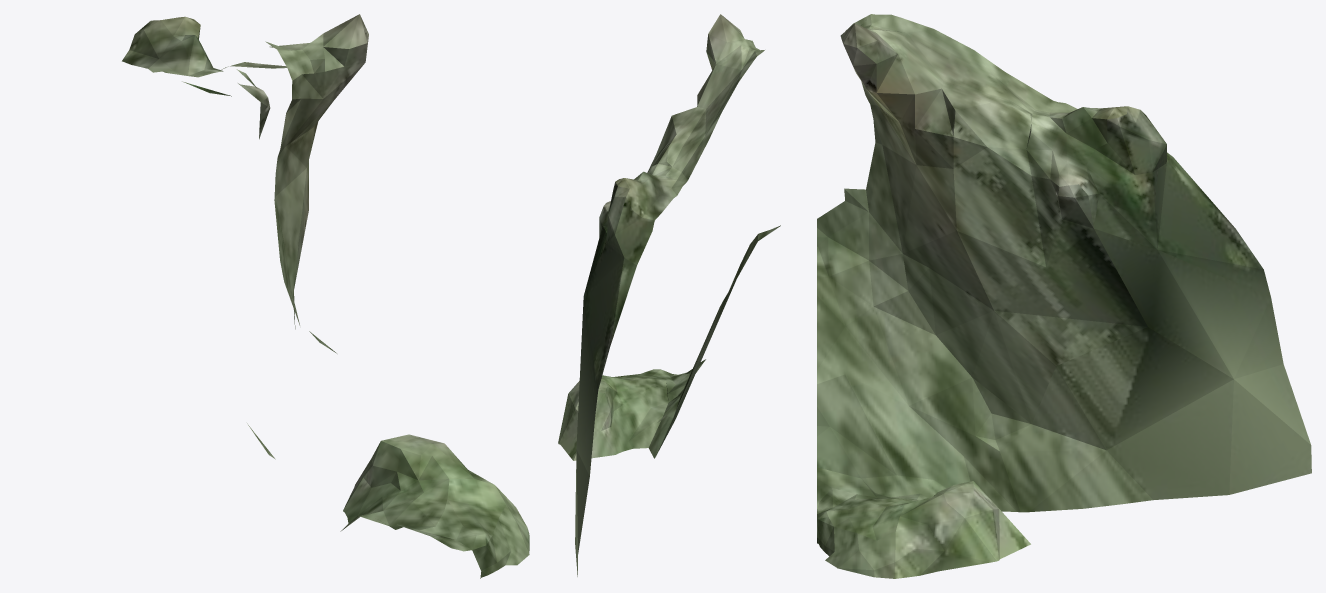
3 views of the same model, side by side, from view 1: azimuth 30°, elevation 25°; view 2: azimuth 150°, elevation 25°; view 3: azimuth 270°, elevation 25° (orthographic). The views are drawn at different scales.
Size of the model in its own units: 2.01 by 4.26 by 3.98.
1 material, 1 textured.
